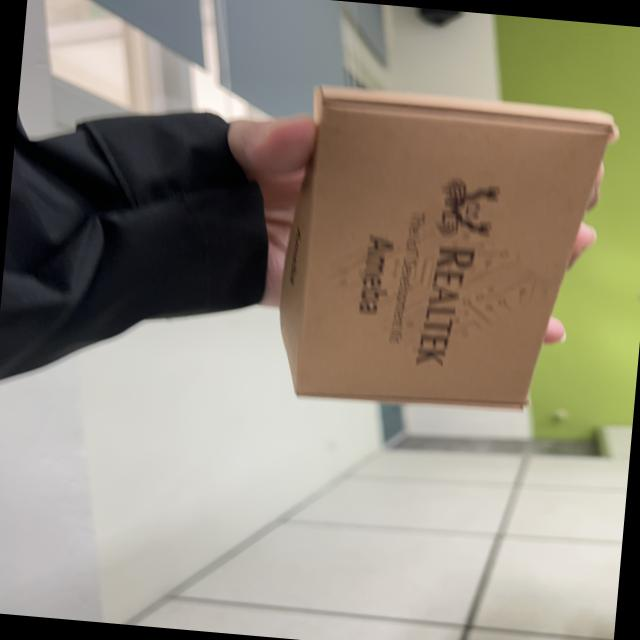box: (274, 62, 612, 433)
